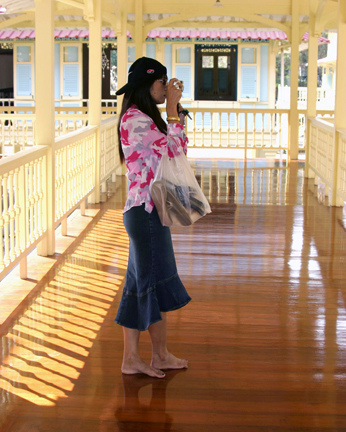person: (114, 58, 191, 378)
